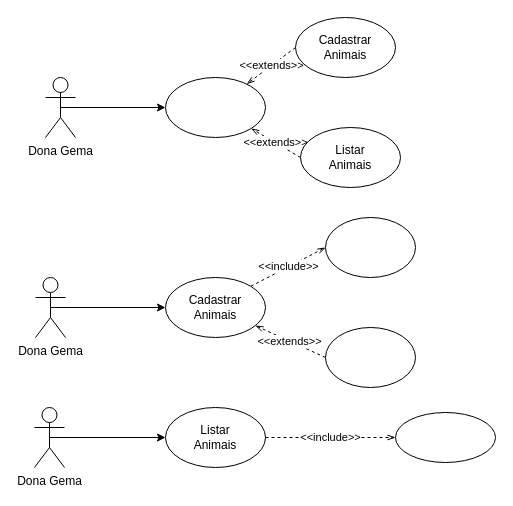
Some shapes in this 513 by 506 pixel diagram are drawn without their labels. Each missing label, with the box of its shape:
Abrir tela inicial com menu de opções: (164, 76, 266, 138)
Cadastrar Vacinas: (324, 326, 416, 388)
Escolher espécie: (324, 216, 416, 278)
Listar Vacinas: (394, 412, 496, 462)
